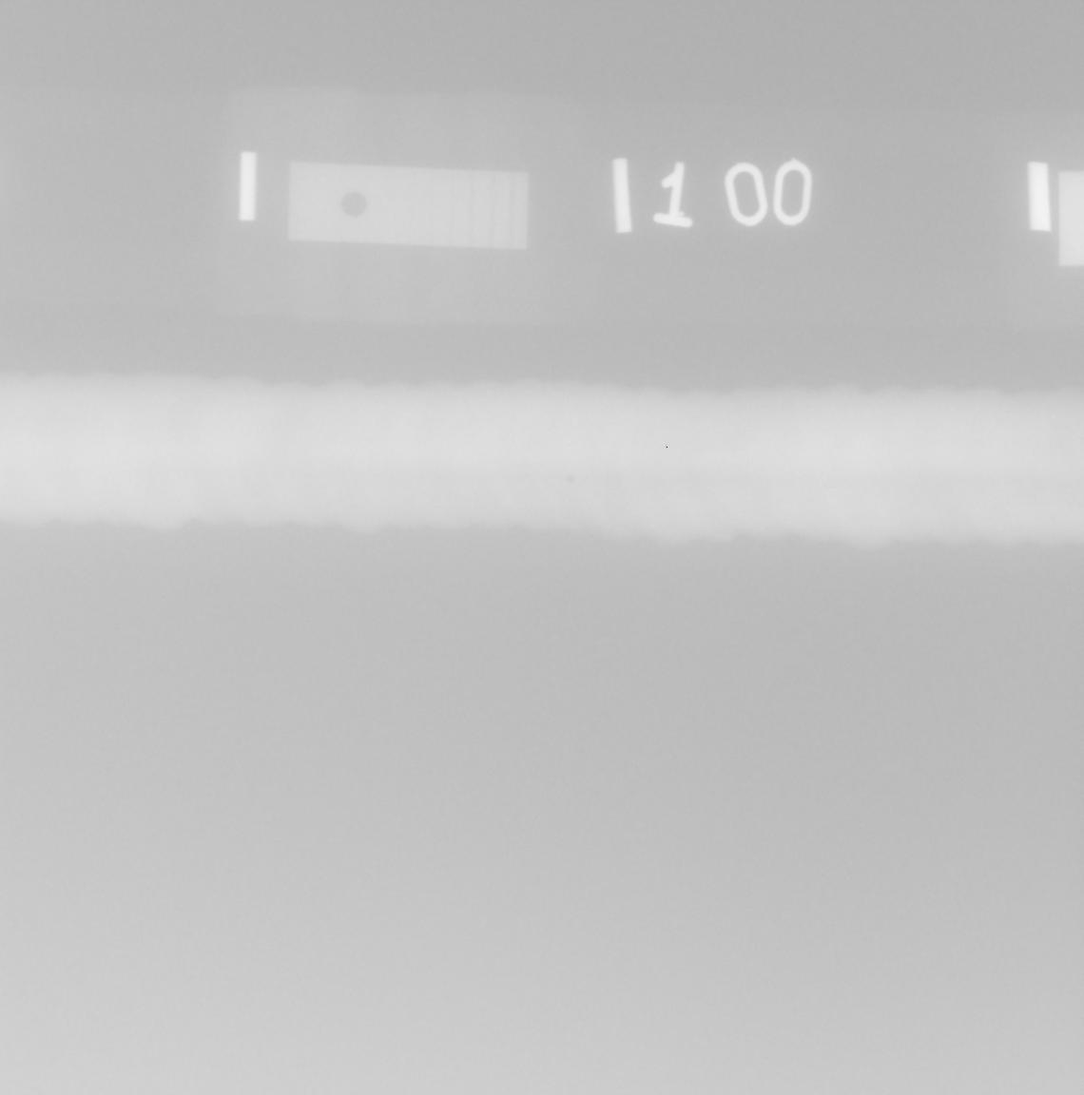Pore/Porosity: (568, 474, 574, 482)
Reference Standard 1: (287, 161, 528, 250)
